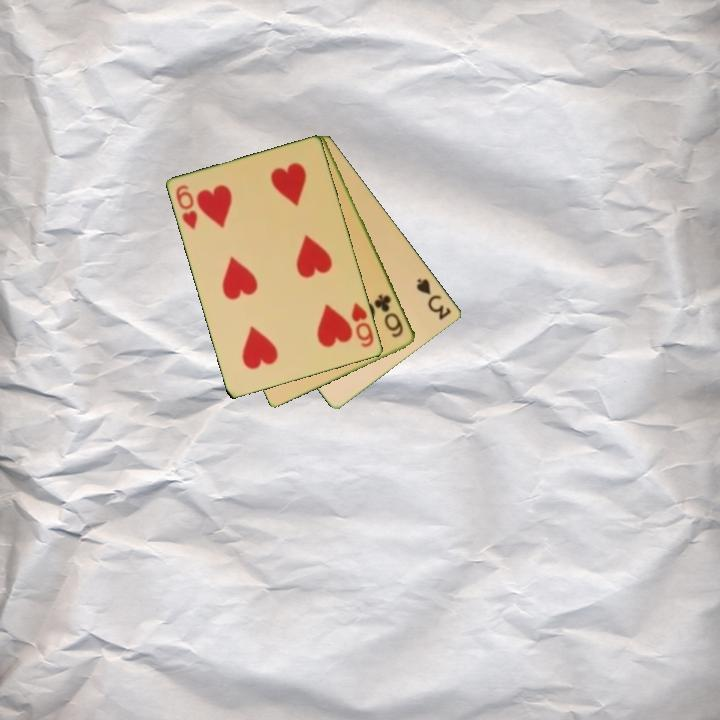3s: (413, 275, 454, 323)
6c: (371, 291, 406, 341)
6h: (348, 299, 377, 350), (173, 181, 201, 233)
